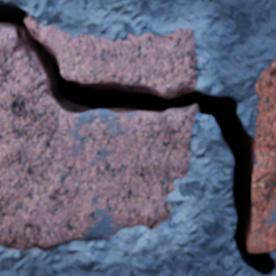brick: (249, 58, 275, 252)
broken_brick: (0, 27, 196, 249), (28, 18, 197, 94)
crack: (0, 1, 275, 275)
